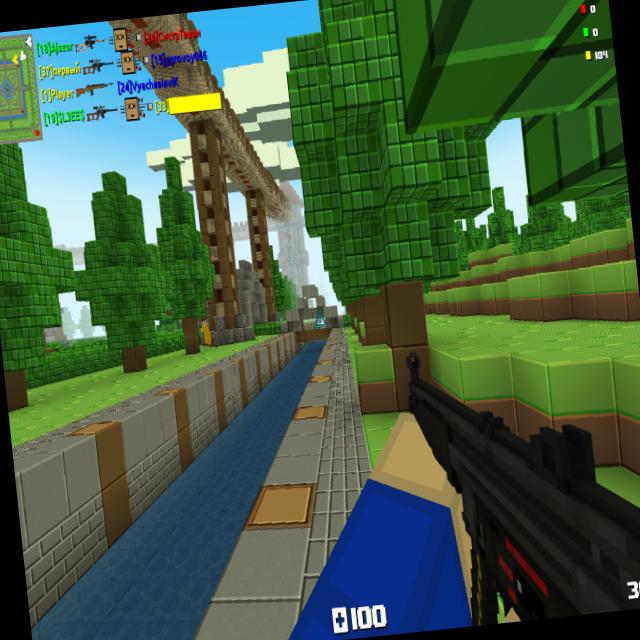enemy: (198, 317, 212, 347)
